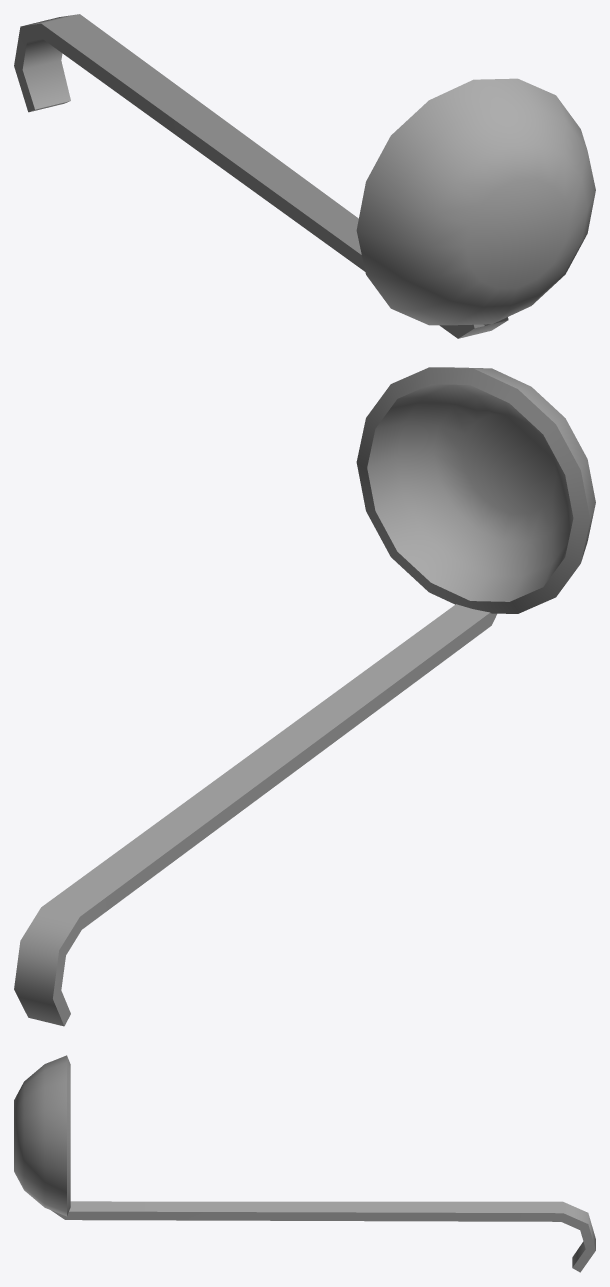
The model's file is Ladle_01.fbx.
The picture shows the model from 3 angles, top to bottom: view 1: azimuth 30°, elevation 25°; view 2: azimuth 150°, elevation 25°; view 3: azimuth 270°, elevation 25°; orthographic projection. The views are drawn at different scales.
Visible parts, largest first — view 1: Ladle_01; view 2: Ladle_01; view 3: Ladle_01.
Part boxes in pixels (left/top/right/bottom): Ladle_01: left=14, top=14, right=595, bottom=338; Ladle_01: left=14, top=367, right=595, bottom=1026; Ladle_01: left=14, top=1055, right=595, bottom=1272.
Bounding box in the file's own units: 0.0926 × 0.1292 × 0.3323.
